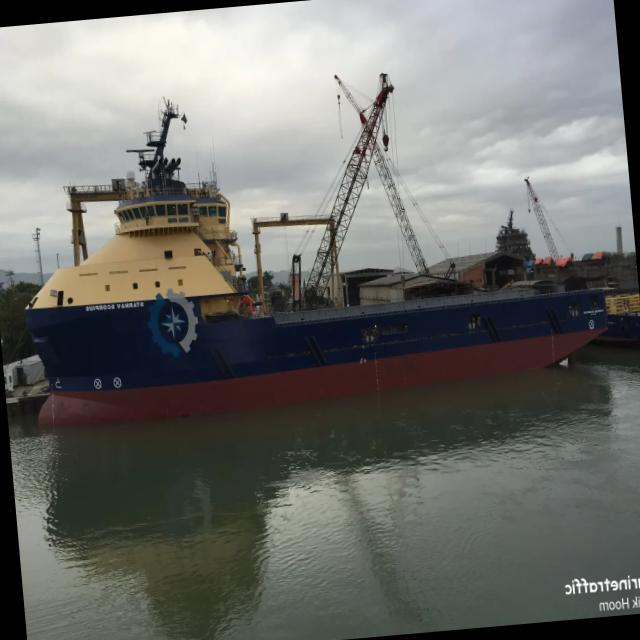Offshore: (25, 100, 602, 425)
